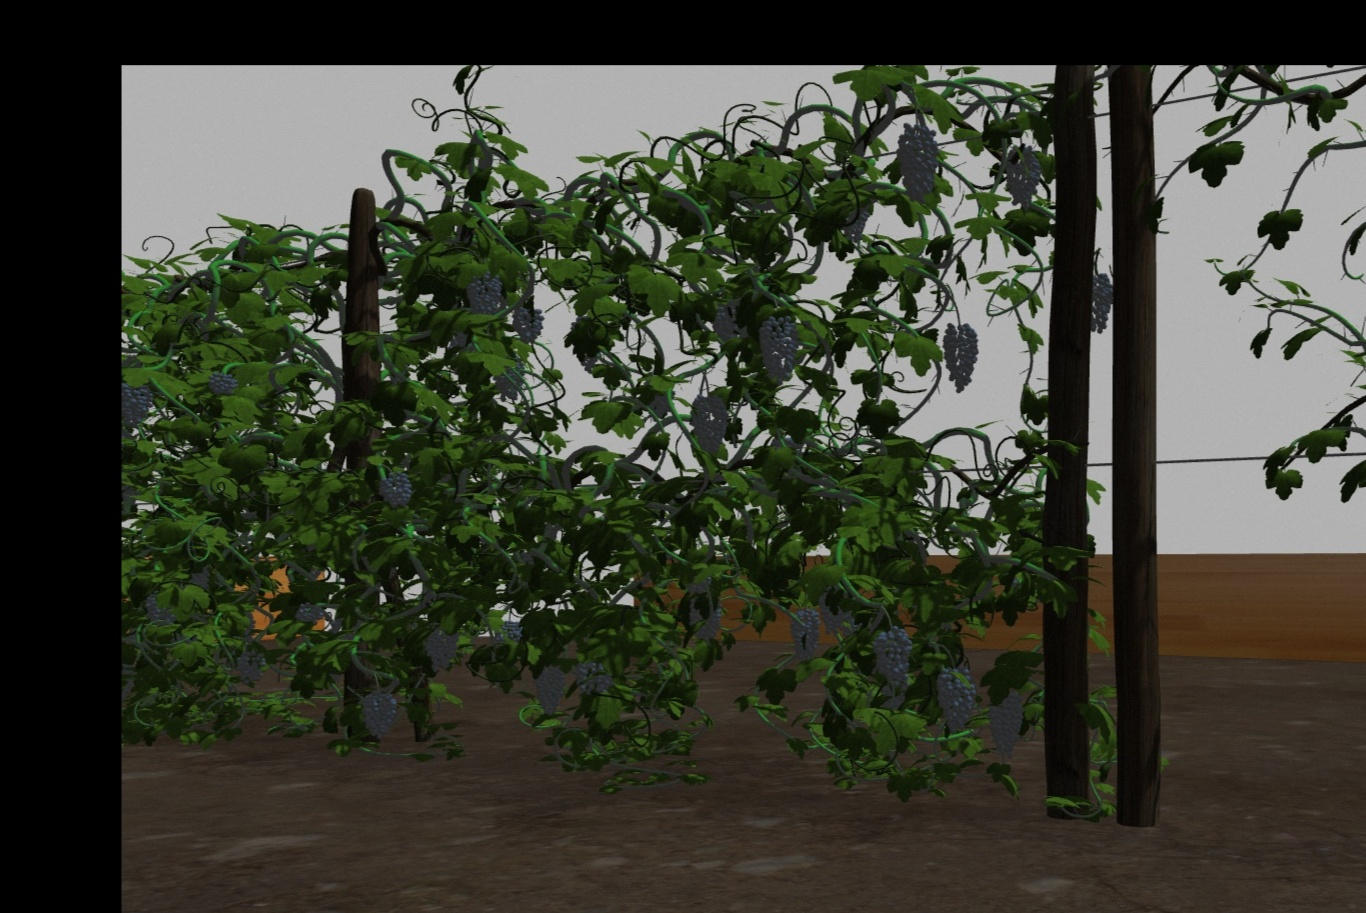grape: (896, 121, 939, 199), (939, 321, 979, 391), (986, 687, 1026, 756), (760, 316, 797, 383), (1005, 147, 1043, 211), (937, 669, 974, 734), (688, 579, 723, 643), (688, 394, 726, 453), (872, 629, 910, 686), (358, 691, 399, 742), (535, 665, 566, 719), (788, 611, 820, 662), (467, 272, 503, 316), (424, 627, 459, 672), (1088, 274, 1114, 333), (573, 658, 610, 696), (509, 303, 545, 341), (377, 474, 415, 509), (122, 387, 152, 430), (235, 647, 264, 690), (494, 361, 524, 400), (207, 369, 237, 396), (295, 601, 321, 623)
